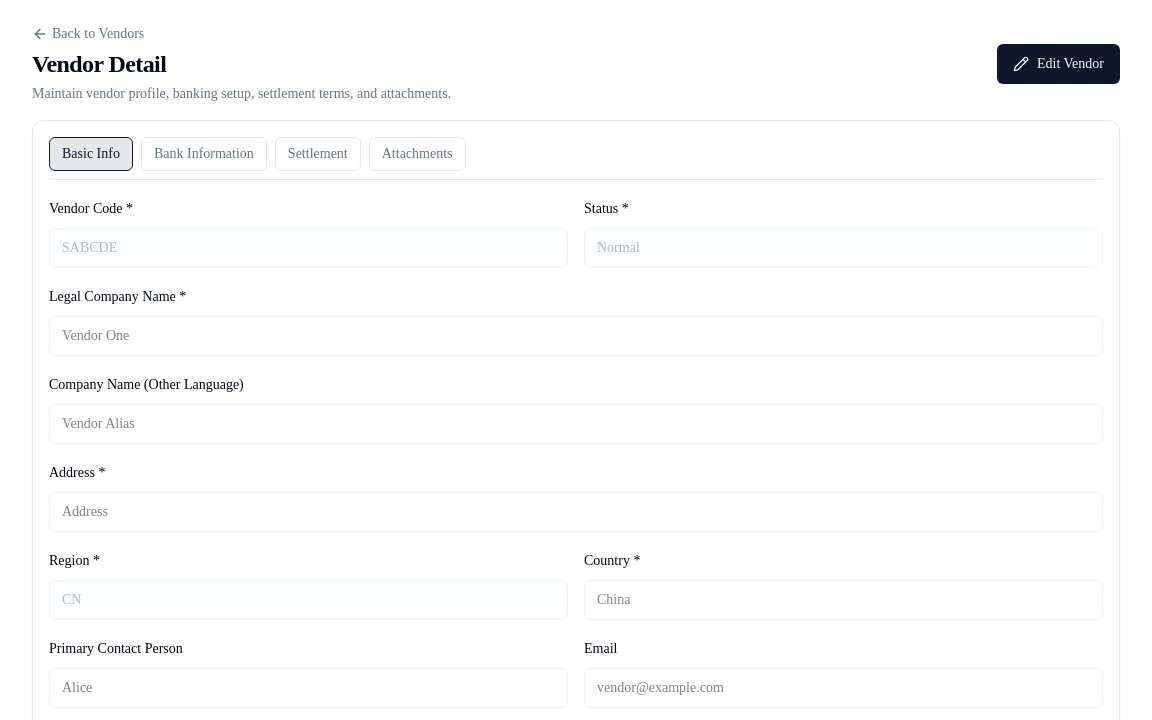
Test case: VendorForm › renders settlement credit limit in view mode
Click the button "Settlement" at {"x": 318, "y": 154}, box [275,137,361,171]
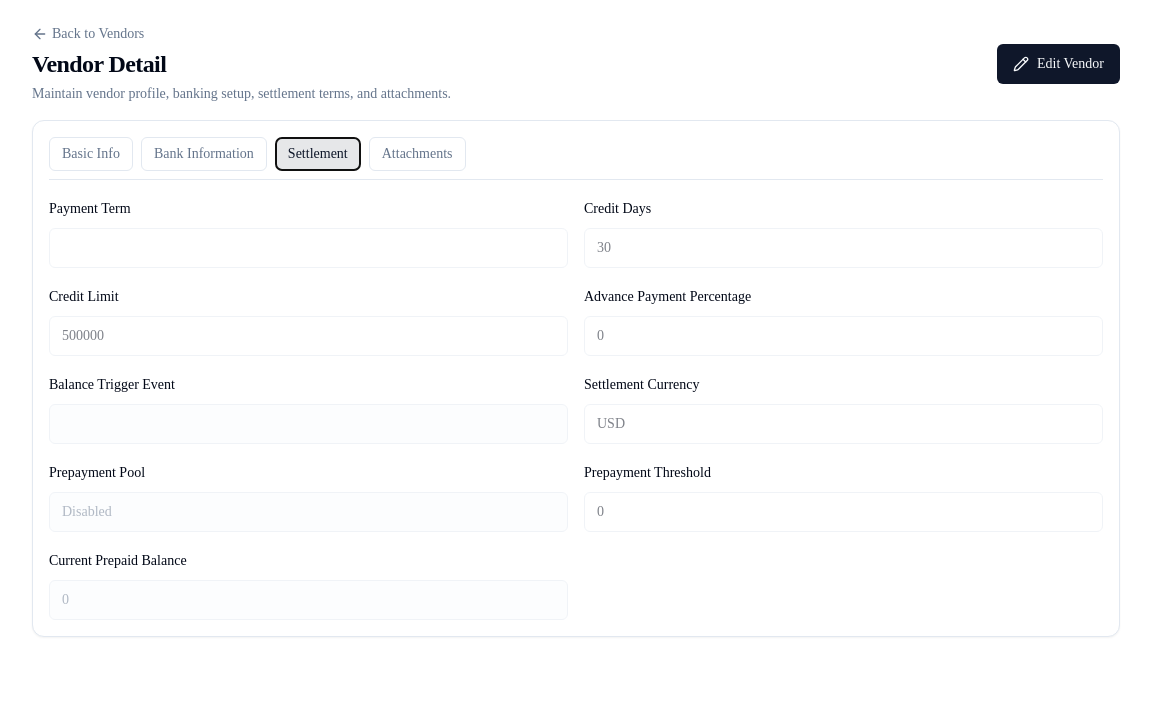
expect the number field showing "500000" is shown: met, box [49,316,568,356]
